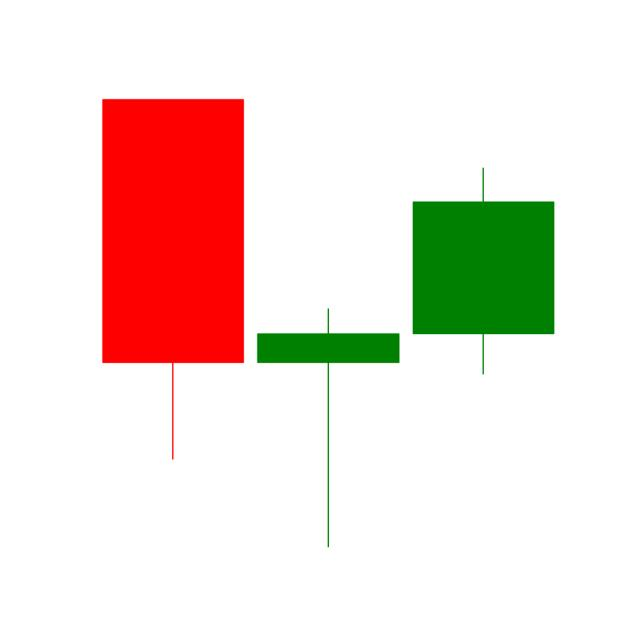Dragonfly Doji: (249, 306, 406, 550)
spinning top: (409, 164, 556, 378)
